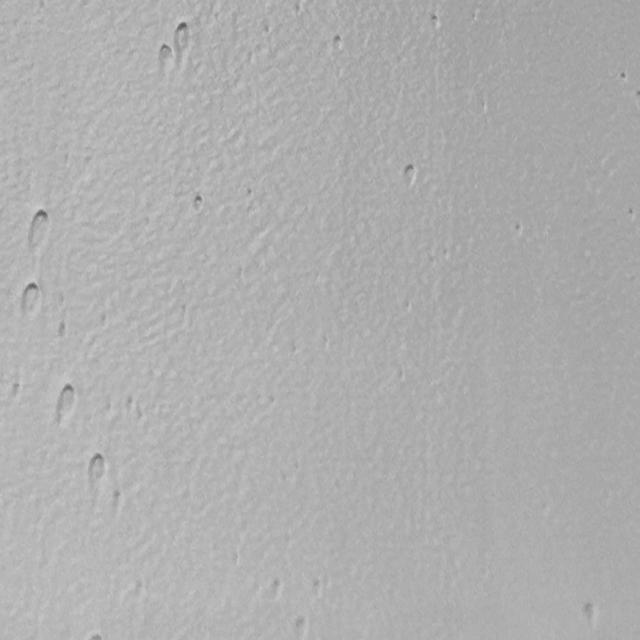pin holes: (25, 208, 56, 256), (55, 384, 79, 423), (19, 280, 43, 316), (172, 22, 195, 59), (85, 450, 109, 485), (580, 598, 602, 631), (158, 42, 178, 76), (399, 162, 420, 189), (290, 614, 311, 639), (267, 576, 287, 602), (307, 575, 325, 600), (111, 488, 127, 516), (191, 192, 207, 215), (331, 35, 345, 56), (56, 321, 70, 342), (98, 309, 110, 333), (11, 381, 25, 400), (431, 14, 444, 33), (617, 68, 631, 85), (125, 397, 137, 416), (511, 222, 525, 238), (625, 205, 638, 222), (243, 186, 254, 200), (90, 630, 105, 639)
